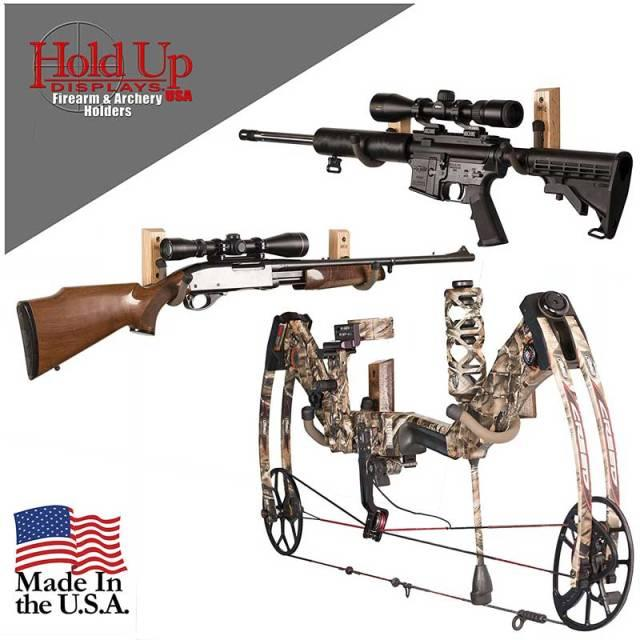Rifle: (239, 90, 635, 248), (17, 233, 476, 367)
